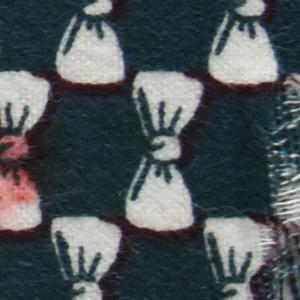Damage: (263, 66, 300, 300)
Stain: (1, 129, 73, 213)
